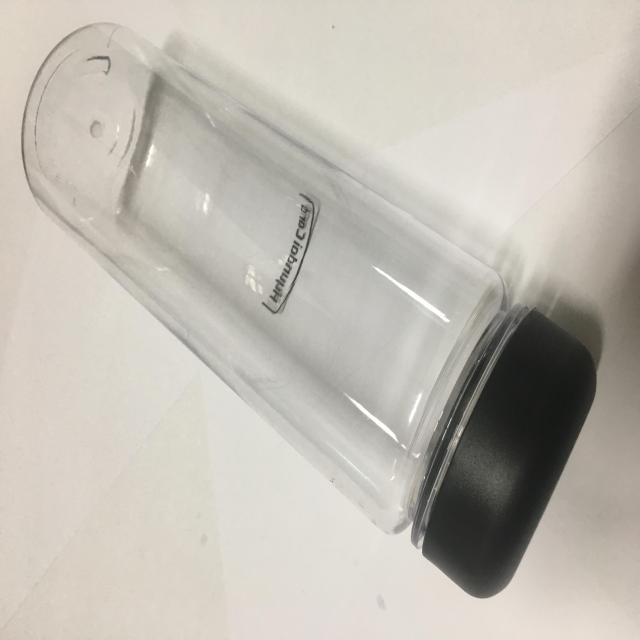bottle: (19, 14, 597, 603)
